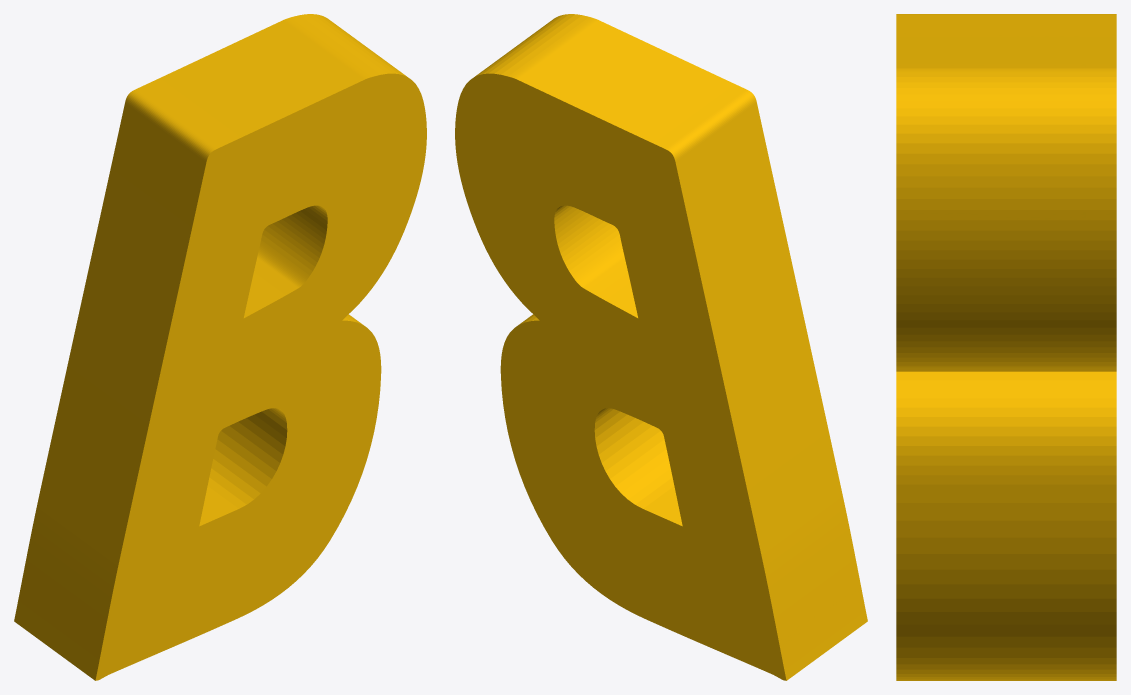
Rendered from LETTERB.gltf.
3 views of the same model, side by side, from view 1: azimuth 30°, elevation 25°; view 2: azimuth 150°, elevation 25°; view 3: azimuth 270°, elevation 25° (orthographic). The views are drawn at different scales.
Visible parts, largest first — view 1: Curve.016; view 2: Curve.016; view 3: Curve.016.
Boxes of the visible parts, left/top/right/bottom form: Curve.016: left=14, top=14, right=426, bottom=680; Curve.016: left=455, top=14, right=867, bottom=680; Curve.016: left=896, top=14, right=1116, bottom=680.
Size of the model in its own units: 0.0751 by 0.1162 by 0.032.
